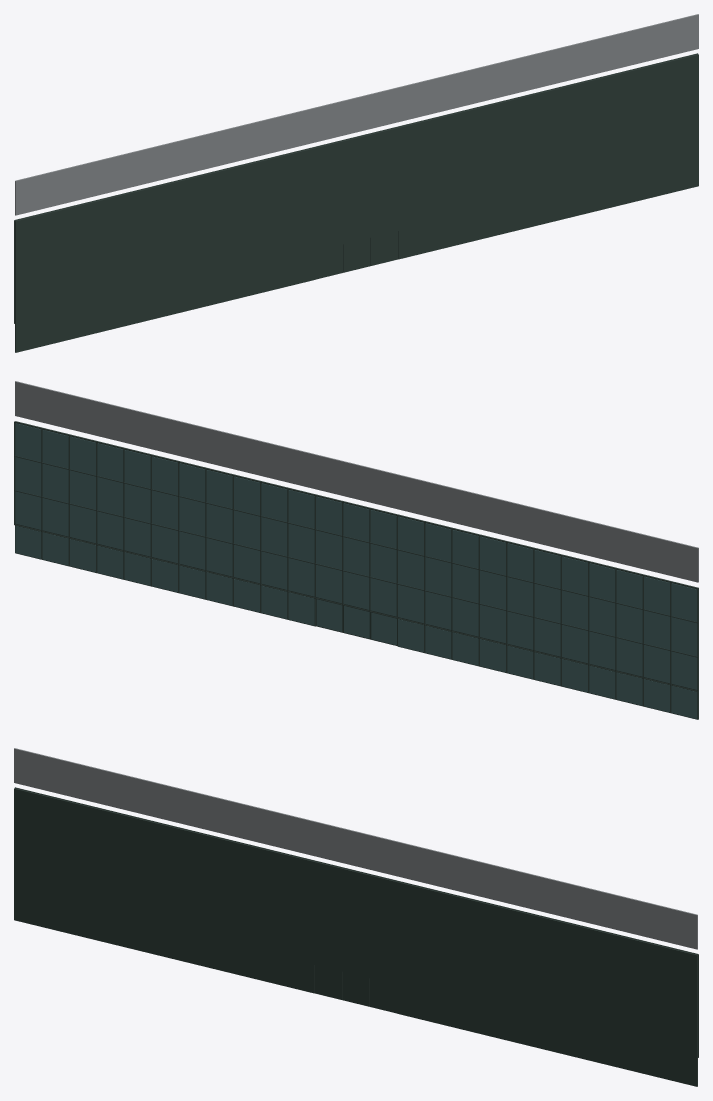
Rendered from arena-north-detail-2026-11-04.glb.
3 renders of one model, top to bottom at view 1: azimuth 30°, elevation 25°; view 2: azimuth 150°, elevation 25°; view 3: azimuth 330°, elevation 25°, orthographic.
Parts seen in each view (by area): view 1: exterior-detail-building; view 2: exterior-detail-building; view 3: exterior-detail-building.
Part boxes in pixels (x1,y1,x2,y2): exterior-detail-building: (14,14,698,352); exterior-detail-building: (14,381,698,719); exterior-detail-building: (14,748,698,1086).
Size of the model in its own units: 125 by 30 by 0.405.
